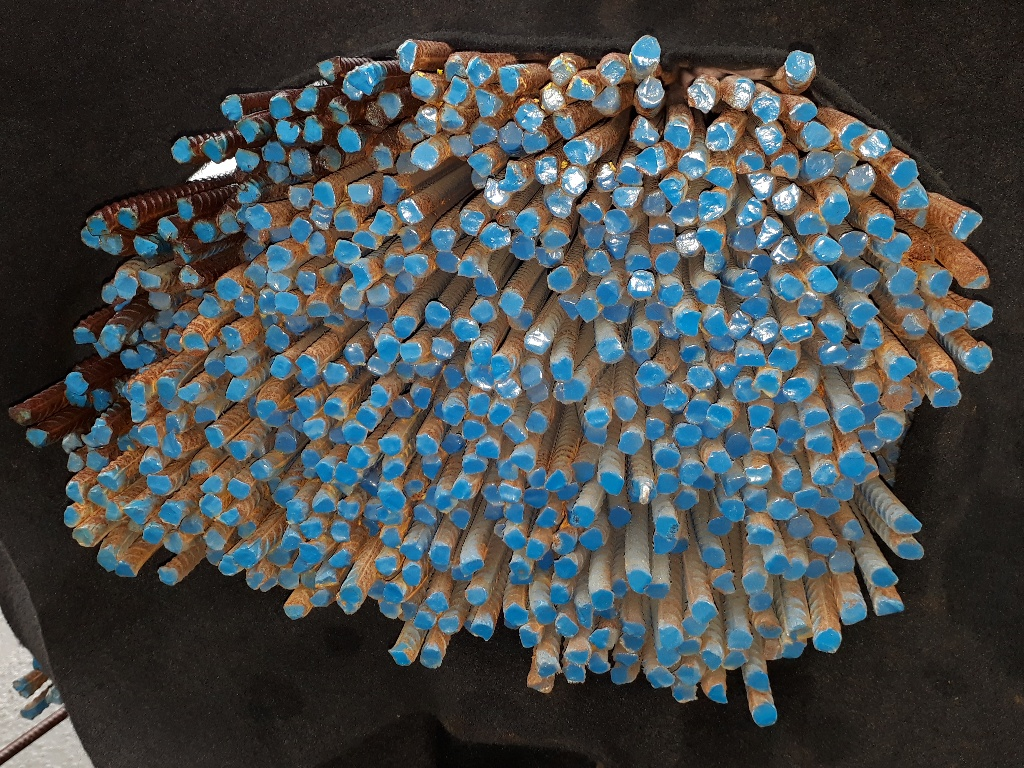dipstick: (698, 192, 728, 221), (822, 194, 849, 226), (378, 480, 404, 512), (632, 39, 661, 67), (806, 152, 834, 180), (756, 126, 783, 155), (690, 82, 715, 113), (848, 302, 881, 325), (847, 165, 874, 193), (804, 123, 833, 149), (892, 159, 918, 188), (563, 141, 594, 165), (515, 104, 542, 131), (864, 131, 891, 158), (638, 77, 664, 105), (707, 122, 733, 150), (773, 184, 801, 210), (889, 268, 917, 294), (965, 345, 991, 373), (687, 365, 715, 391), (546, 190, 570, 220), (552, 109, 575, 140), (294, 546, 321, 572), (814, 627, 841, 653), (843, 231, 868, 259), (937, 309, 965, 334), (337, 586, 361, 615), (634, 118, 658, 147), (479, 225, 508, 249), (636, 361, 666, 384), (443, 79, 469, 105), (956, 214, 982, 240), (348, 68, 373, 95), (629, 271, 654, 298), (786, 54, 813, 79), (967, 301, 992, 328), (875, 415, 902, 440), (566, 505, 595, 528), (535, 156, 557, 186), (886, 359, 916, 381), (758, 218, 779, 249), (772, 155, 798, 180), (813, 267, 838, 293), (838, 405, 863, 431), (411, 145, 438, 169), (503, 162, 527, 189), (595, 88, 619, 115), (665, 122, 689, 149), (815, 237, 842, 261), (411, 72, 434, 100), (484, 180, 507, 208), (498, 123, 521, 151), (601, 57, 624, 85), (602, 211, 630, 234), (554, 382, 584, 403), (399, 199, 424, 224), (511, 235, 536, 260), (849, 345, 874, 370), (369, 145, 393, 171), (426, 302, 450, 328), (467, 365, 491, 391), (755, 96, 779, 122), (842, 124, 866, 150), (852, 268, 878, 292), (882, 386, 908, 410), (438, 108, 465, 131), (635, 147, 658, 174), (747, 405, 774, 428), (497, 66, 519, 94), (597, 340, 625, 362), (739, 199, 761, 227), (889, 234, 911, 262), (742, 298, 771, 319), (728, 312, 749, 341), (398, 40, 417, 72), (734, 80, 753, 112), (289, 149, 313, 174), (500, 291, 524, 316), (599, 470, 623, 495), (869, 216, 894, 240), (737, 271, 761, 296), (752, 429, 777, 453), (318, 147, 341, 173), (86, 421, 109, 447), (564, 169, 587, 195), (221, 95, 243, 122), (290, 217, 312, 244), (467, 57, 489, 84), (552, 58, 574, 85), (670, 203, 697, 225), (929, 271, 951, 298), (675, 424, 702, 446), (318, 56, 341, 81), (679, 152, 702, 177), (314, 182, 336, 208), (311, 206, 333, 232), (334, 240, 360, 262), (138, 424, 160, 450), (470, 301, 496, 323), (707, 167, 733, 189), (903, 312, 929, 334), (452, 321, 480, 341), (475, 89, 495, 117), (736, 153, 764, 173), (897, 190, 928, 208), (378, 93, 401, 117), (541, 88, 565, 111), (643, 193, 666, 217), (660, 179, 683, 203), (798, 293, 822, 316), (814, 462, 838, 485), (752, 703, 776, 726), (789, 103, 818, 122), (932, 389, 961, 408), (894, 514, 923, 533), (339, 126, 361, 151), (115, 274, 137, 299), (268, 246, 290, 271), (433, 251, 458, 273), (577, 298, 599, 323), (618, 432, 643, 454), (770, 348, 795, 370), (216, 278, 242, 299), (267, 325, 288, 351), (491, 355, 512, 381), (569, 78, 595, 99), (745, 465, 771, 486), (523, 488, 550, 508), (752, 322, 779, 342), (276, 292, 299, 315), (443, 404, 466, 427), (443, 54, 466, 77), (756, 373, 779, 396), (296, 88, 318, 112), (248, 206, 272, 228), (348, 184, 372, 206), (371, 211, 393, 235), (244, 263, 266, 287), (324, 363, 348, 385), (587, 252, 611, 274), (608, 234, 630, 258), (614, 397, 636, 421), (480, 481, 504, 503), (677, 232, 699, 256), (781, 324, 814, 340), (785, 378, 809, 400), (235, 149, 260, 170), (417, 109, 438, 134), (404, 254, 429, 275), (340, 285, 361, 310), (471, 125, 496, 146), (631, 480, 656, 501), (853, 382, 878, 403), (815, 496, 840, 517), (779, 419, 804, 440), (781, 469, 802, 494), (382, 175, 400, 204), (961, 271, 990, 289), (172, 137, 192, 163), (303, 117, 323, 143), (102, 326, 122, 352), (769, 499, 795, 519), (648, 668, 674, 688), (614, 188, 641, 207), (544, 231, 571, 250), (676, 665, 703, 684), (66, 372, 88, 395), (344, 424, 367, 446), (378, 339, 400, 362), (415, 434, 437, 457), (449, 134, 472, 156), (549, 268, 572, 290), (775, 238, 797, 261), (699, 281, 721, 304), (709, 405, 732, 427), (685, 401, 708, 423), (744, 571, 766, 594), (713, 572, 736, 594), (200, 493, 221, 517), (336, 500, 360, 521), (654, 252, 678, 273), (699, 231, 723, 252), (706, 313, 727, 337), (862, 324, 883, 348), (820, 345, 848, 363), (789, 517, 813, 538), (664, 386, 685, 410), (218, 208, 238, 233), (134, 236, 159, 256), (306, 233, 326, 258), (522, 132, 547, 152), (461, 210, 481, 235), (752, 173, 772, 198), (840, 602, 865, 622), (661, 626, 681, 651), (182, 332, 208, 351), (637, 387, 664, 405), (805, 436, 832, 454), (271, 96, 293, 118), (276, 121, 298, 143), (433, 230, 455, 252), (368, 284, 390, 306), (393, 317, 415, 339), (159, 504, 181, 526), (504, 529, 526, 551), (556, 298, 578, 320), (596, 283, 618, 305), (779, 278, 801, 300), (100, 234, 123, 255), (400, 229, 421, 252), (221, 327, 242, 350), (436, 489, 457, 512), (432, 338, 453, 361), (474, 275, 497, 296), (496, 209, 519, 230), (830, 552, 853, 573), (224, 356, 248, 376), (147, 474, 171, 494), (578, 203, 602, 223), (518, 211, 538, 235), (655, 447, 679, 467), (746, 672, 770, 692), (619, 635, 647, 652), (798, 216, 826, 233), (352, 264, 371, 289), (162, 434, 181, 459), (467, 155, 492, 174), (510, 312, 535, 331), (524, 333, 549, 352), (873, 567, 898, 586), (794, 489, 819, 508), (693, 603, 718, 622), (648, 226, 674, 244), (201, 140, 222, 162), (267, 162, 289, 183), (193, 221, 215, 242), (158, 218, 179, 240), (271, 356, 292, 378), (556, 616, 578, 637), (390, 398, 412, 419), (442, 368, 464, 389), (526, 412, 547, 434), (632, 327, 653, 349), (627, 571, 649, 592), (657, 515, 679, 536), (723, 500, 745, 521), (288, 187, 311, 207), (458, 259, 481, 279), (735, 228, 755, 251), (679, 312, 699, 335), (747, 489, 767, 512), (262, 143, 286, 162), (72, 527, 96, 546), (554, 358, 573, 382), (603, 305, 627, 324), (590, 588, 614, 607), (722, 652, 747, 670), (728, 632, 753, 650), (874, 599, 902, 615), (598, 165, 615, 191), (931, 372, 957, 389), (812, 537, 838, 554), (581, 529, 602, 550), (710, 451, 731, 472), (701, 650, 722, 671), (238, 183, 260, 203), (267, 272, 289, 292), (227, 379, 247, 401), (204, 426, 224, 448), (336, 463, 356, 485), (345, 344, 365, 366), (359, 474, 379, 496), (374, 555, 396, 575), (727, 436, 749, 456), (704, 548, 726, 568), (238, 120, 257, 143), (174, 242, 193, 265), (120, 350, 143, 369), (505, 605, 528, 624), (417, 361, 440, 380), (618, 167, 641, 186), (499, 482, 522, 501), (398, 124, 422, 142), (362, 501, 386, 519), (413, 506, 437, 524), (462, 422, 486, 440), (413, 386, 431, 410), (495, 381, 519, 399), (536, 248, 560, 266), (451, 507, 469, 531), (651, 537, 675, 555), (898, 541, 923, 558), (672, 684, 697, 701), (321, 265, 342, 285), (296, 272, 316, 293), (64, 482, 84, 503), (228, 440, 248, 461), (304, 420, 325, 440), (550, 584, 570, 605), (554, 534, 574, 555), (441, 434, 462, 454), (504, 423, 525, 443), (662, 285, 683, 305), (536, 508, 557, 528), (609, 506, 629, 527), (592, 628, 612, 649), (893, 295, 923, 309), (822, 323, 843, 343), (840, 452, 861, 472), (833, 480, 854, 500), (383, 462, 405, 481), (585, 226, 604, 248), (716, 365, 738, 384), (859, 431, 881, 450), (723, 476, 745, 495), (259, 288, 275, 314), (682, 620, 708, 636), (334, 213, 357, 231), (380, 437, 403, 455), (285, 316, 309, 333), (366, 103, 382, 128), (353, 232, 378, 248), (394, 274, 414, 294), (366, 307, 391, 323), (272, 487, 292, 507), (349, 448, 369, 468), (557, 559, 577, 579), (469, 394, 489, 414), (747, 529, 772, 545), (200, 295, 219, 316), (124, 505, 145, 524), (536, 606, 555, 627), (509, 560, 530, 579), (521, 366, 540, 387), (708, 517, 729, 536), (139, 271, 161, 289), (25, 429, 47, 447), (228, 480, 250, 498), (274, 435, 296, 453), (426, 593, 448, 611), (562, 665, 584, 683), (473, 344, 491, 366), (753, 255, 771, 277), (683, 462, 701, 484), (656, 475, 678, 493), (737, 352, 765, 366), (526, 386, 549, 403), (586, 409, 609, 426), (735, 382, 758, 399), (479, 505, 505, 520), (147, 292, 171, 308), (323, 316, 347, 332), (138, 458, 162, 474), (476, 441, 500, 457), (805, 410, 829, 426), (680, 346, 704, 362), (765, 556, 789, 572), (118, 209, 137, 229), (250, 462, 270, 481), (382, 528, 402, 547), (383, 584, 403, 603), (390, 647, 410, 666), (421, 648, 441, 667), (405, 480, 425, 499), (330, 102, 348, 123), (93, 388, 111, 409), (87, 452, 108, 470), (287, 502, 305, 523), (317, 572, 338, 590), (328, 550, 349, 568), (323, 402, 344, 420), (430, 546, 451, 564), (396, 149, 411, 174), (461, 458, 486, 473), (236, 295, 253, 317), (158, 378, 175, 400), (97, 473, 119, 490), (63, 506, 80, 528), (190, 461, 212, 478), (371, 385, 388, 407), (401, 544, 423, 561), (575, 460, 592, 482), (676, 492, 698, 509), (782, 641, 804, 658), (657, 650, 679, 667), (74, 328, 97, 344), (313, 497, 336, 513), (834, 151, 857, 167), (614, 653, 640, 667), (97, 551, 116, 570), (519, 628, 538, 647), (589, 653, 608, 672), (682, 638, 701, 657), (178, 384, 202, 399), (89, 488, 107, 508), (396, 362, 414, 382), (423, 461, 443, 479), (453, 479, 471, 499), (705, 254, 725, 272), (843, 521, 863, 539), (757, 623, 781, 638), (707, 685, 727, 703), (177, 199, 194, 220), (386, 255, 403, 276), (157, 567, 178, 584), (269, 550, 290, 567), (403, 565, 420, 586), (489, 405, 510, 422), (586, 429, 607, 446), (528, 467, 545, 488), (861, 458, 878, 479), (194, 407, 216, 423), (401, 344, 423, 360), (307, 301, 330, 316), (132, 381, 147, 404), (8, 408, 31, 423), (647, 304, 670, 319), (182, 267, 201, 285), (143, 323, 161, 342), (164, 415, 182, 434), (206, 530, 224, 549), (235, 549, 254, 567), (298, 398, 317, 416), (332, 523, 350, 542), (358, 409, 376, 428), (414, 612, 433, 630), (88, 218, 108, 235), (205, 359, 225, 376), (220, 508, 240, 525), (466, 586, 486, 603), (788, 560, 805, 580), (579, 604, 593, 628), (622, 622, 646, 636), (648, 584, 669, 600), (144, 526, 162, 544), (763, 642, 781, 660), (67, 453, 84, 472), (317, 463, 334, 482), (243, 572, 262, 589), (296, 370, 315, 387), (514, 453, 533, 470), (500, 461, 517, 480), (547, 472, 566, 489), (710, 337, 733, 351), (748, 596, 771, 610), (341, 85, 361, 101), (81, 229, 97, 249), (302, 522, 322, 538), (438, 617, 458, 633), (527, 540, 543, 560), (696, 476, 716, 492), (182, 519, 203, 534), (370, 358, 391, 373), (381, 603, 402, 618), (567, 648, 588, 663), (788, 627, 812, 640), (200, 478, 222, 492), (138, 346, 156, 363), (165, 534, 182, 552), (256, 400, 274, 417), (157, 310, 173, 329), (130, 404, 146, 423), (239, 522, 255, 541), (310, 591, 329, 607), (807, 561, 826, 577), (61, 436, 81, 451), (284, 603, 304, 618), (296, 354, 316, 369), (610, 669, 630, 684), (301, 449, 318, 466), (173, 311, 191, 327), (116, 436, 134, 452), (280, 572, 298, 588), (676, 537, 689, 559), (106, 502, 121, 521), (474, 624, 493, 639), (243, 242, 263, 256), (116, 563, 136, 577), (370, 578, 383, 599), (463, 560, 484, 573), (628, 256, 649, 269), (166, 334, 181, 352), (220, 559, 238, 574), (271, 228, 290, 242), (558, 486, 577, 500), (469, 170, 482, 190), (593, 610, 619, 620), (611, 580, 627, 596), (102, 285, 117, 302), (301, 573, 316, 589), (628, 350, 652, 360), (659, 322, 676, 336), (452, 568, 470, 581), (540, 552, 552, 570), (66, 396, 87, 406), (208, 550, 222, 565), (283, 533, 297, 548), (330, 428, 344, 443), (364, 520, 379, 534), (248, 231, 266, 242), (291, 413, 302, 431), (426, 484, 435, 506), (270, 413, 286, 425), (262, 580, 276, 593), (160, 402, 180, 411), (403, 603, 415, 618), (540, 663, 558, 672), (303, 468, 316, 479), (494, 522, 504, 536)
